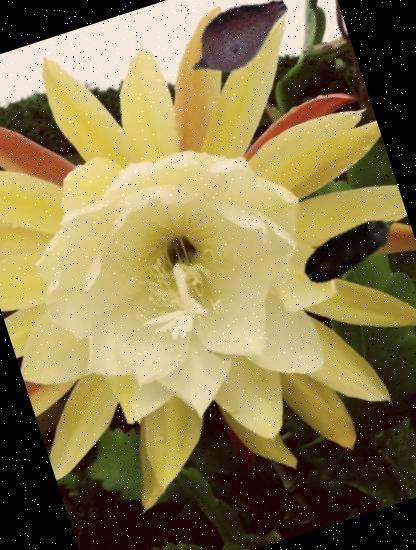Eggplant: (282, 179, 416, 315)
Salak: (166, 0, 310, 108)
